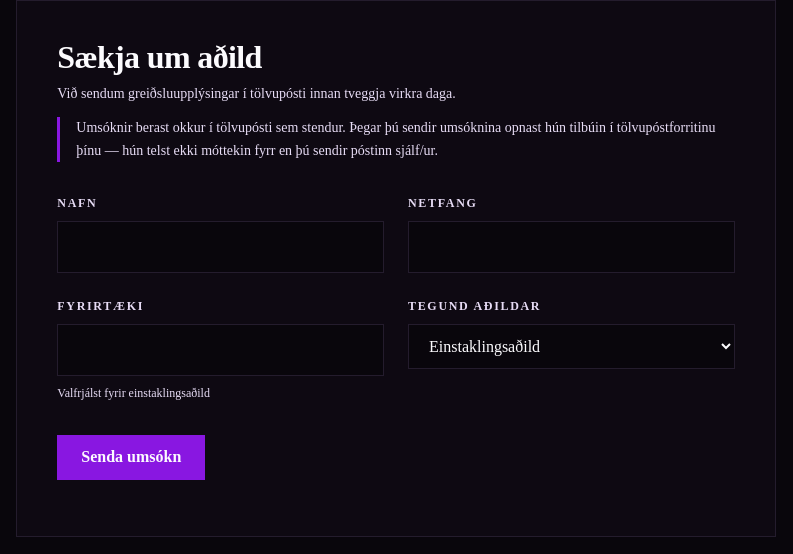
Test: MembershipForm (is) › drops the optional-company hint once a company application is chosen
Check: the text "Valfrjálst fyrir einstaklingsaðild" is shown, box [57,386,210,400]
Select "Fyrirtækjaaðild" in the dropdown labelled "Tegund aðildar" at (571, 346), box [408,324,735,369]
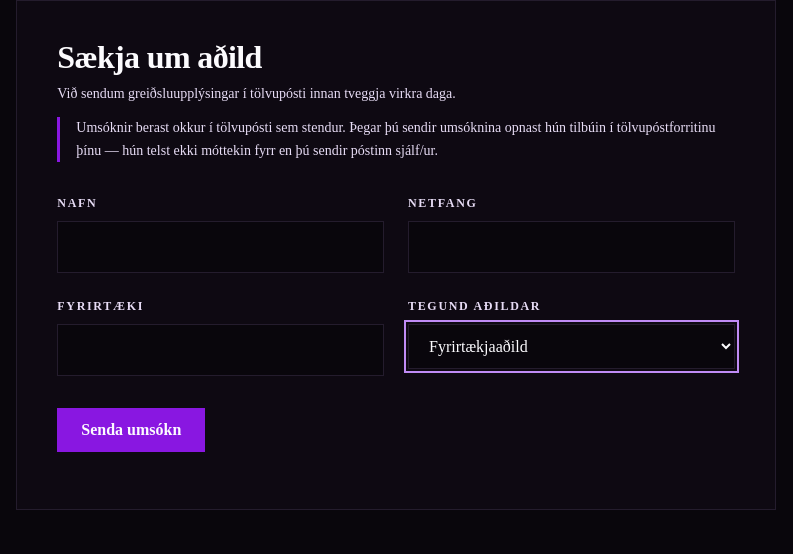
Check: the text "Valfrjálst fyrir einstaklingsaðild" is gone
